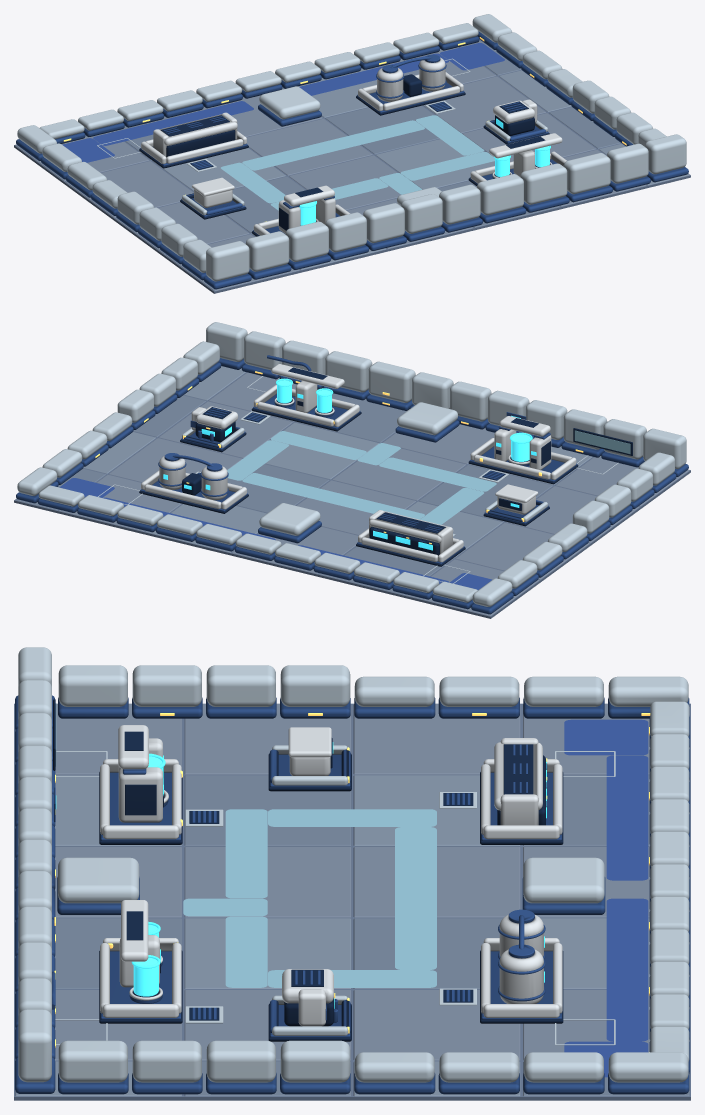
The model's file is CryoSoftRoom_cryo-b.fbx.
3 renders of one model, top to bottom at view 1: azimuth 30°, elevation 25°; view 2: azimuth 150°, elevation 25°; view 3: azimuth 270°, elevation 25°, orthographic. The views are drawn at different scales.
Parts seen in each view (by area): view 1: SC_wall_Soft_Ivory, SC_floor_Soft_Floor, SC_wall_Soft_Blue, SC_obstacle_Soft_White, SC_floor_Soft_FloorLight, SC_marking_Soft_Ice, SC_floor_Soft_FloorShade, SC_marking_Soft_Dock, SC_obstacle_Soft_Navy, SC_floor_Soft_Seam, SC_obstacle_Soft_Blue, SC_obstacle_Soft_Glass (+1 smaller); view 2: SC_wall_Soft_Ivory, SC_floor_Soft_Floor, SC_obstacle_Soft_White, SC_wall_Soft_Blue, SC_floor_Soft_FloorShade, SC_floor_Soft_FloorLight, SC_marking_Soft_Ice, SC_obstacle_Soft_Navy, SC_floor_Soft_Seam, SC_obstacle_Soft_Blue, SC_marking_Soft_Dock, SC_obstacle_Soft_Glass (+4 smaller); view 3: SC_wall_Soft_Ivory, SC_floor_Soft_Floor, SC_obstacle_Soft_White, SC_floor_Soft_FloorLight, SC_floor_Soft_FloorShade, SC_wall_Soft_Blue, SC_marking_Soft_Ice, SC_marking_Soft_Dock, SC_obstacle_Soft_Blue, SC_floor_Soft_Seam, SC_obstacle_Soft_Navy, SC_marking_Soft_Ivory (+4 smaller).
Boxes of the visible parts, <box> form: SC_wall_Soft_Ivory: <box>17,14,686,281</box>; SC_floor_Soft_Floor: <box>15,47,646,290</box>; SC_wall_Soft_Blue: <box>16,31,688,289</box>; SC_obstacle_Soft_White: <box>141,57,566,235</box>; SC_floor_Soft_FloorLight: <box>152,68,689,269</box>; SC_marking_Soft_Ice: <box>221,115,494,210</box>; SC_floor_Soft_FloorShade: <box>112,39,620,233</box>; SC_marking_Soft_Dock: <box>62,43,504,162</box>; SC_obstacle_Soft_Navy: <box>139,74,549,236</box>; SC_floor_Soft_Seam: <box>14,47,690,293</box>; SC_obstacle_Soft_Blue: <box>140,54,557,235</box>; SC_obstacle_Soft_Glass: <box>299,146,549,225</box>; SC_wall_Soft_Ivory: <box>17,322,686,606</box>; SC_floor_Soft_Floor: <box>58,372,689,616</box>; SC_obstacle_Soft_White: <box>141,364,576,562</box>; SC_wall_Soft_Blue: <box>16,355,688,614</box>; SC_floor_Soft_FloorShade: <box>15,393,552,594</box>; SC_floor_Soft_FloorLight: <box>83,366,592,558</box>; SC_marking_Soft_Ice: <box>227,431,496,524</box>; SC_obstacle_Soft_Navy: <box>139,367,578,566</box>; SC_floor_Soft_Seam: <box>14,372,690,618</box>; SC_obstacle_Soft_Blue: <box>140,394,577,564</box>; SC_marking_Soft_Dock: <box>59,478,492,589</box>; SC_obstacle_Soft_Glass: <box>277,380,530,461</box>; SC_wall_Soft_Ivory: <box>18,647,689,1082</box>; SC_floor_Soft_Floor: <box>55,703,689,1060</box>; SC_obstacle_Soft_White: <box>100,725,562,1026</box>; SC_floor_Soft_FloorLight: <box>15,775,649,1096</box>; SC_floor_Soft_FloorShade: <box>55,775,689,1096</box>; SC_wall_Soft_Blue: <box>15,695,689,1094</box>; SC_marking_Soft_Ice: <box>183,809,436,987</box>; SC_marking_Soft_Dock: <box>564,719,648,1077</box>; SC_obstacle_Soft_Blue: <box>100,744,561,1037</box>; SC_floor_Soft_Seam: <box>14,703,690,1100</box>; SC_obstacle_Soft_Navy: <box>99,731,563,1041</box>; SC_marking_Soft_Ivory: <box>55,751,615,1045</box>.
Bounding box in the file's own units: 4400 × 387 × 3200.
